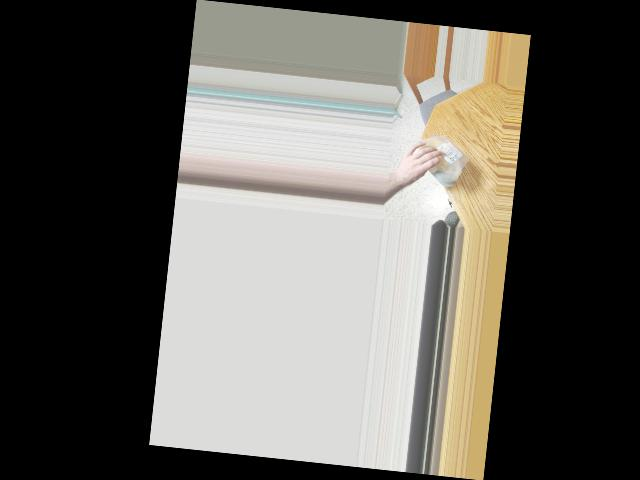cheese: (405, 130, 473, 188)
